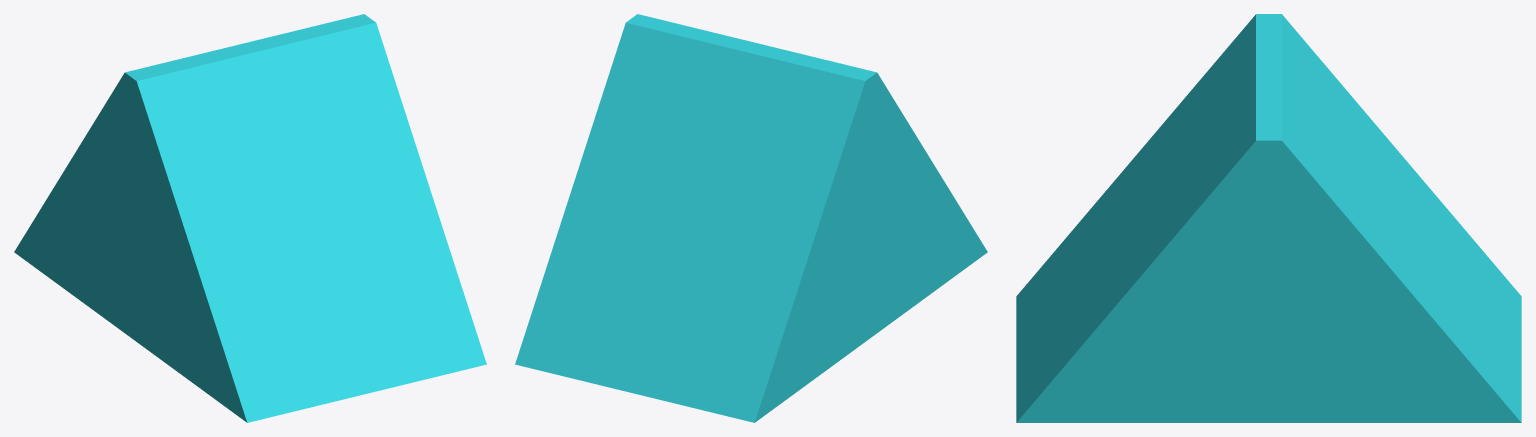
The model's file is Bloque1.fbx.
3 renders of one model, left to right at view 1: azimuth 30°, elevation 25°; view 2: azimuth 150°, elevation 25°; view 3: azimuth 270°, elevation 25°, orthographic. The views are drawn at different scales.
Visible parts, largest first — view 1: Bloques.002; view 2: Bloques.002; view 3: Bloques.002.
Part boxes in pixels (left/top/right/bottom): Bloques.002: left=14, top=14, right=486, bottom=422; Bloques.002: left=515, top=14, right=987, bottom=422; Bloques.002: left=1016, top=14, right=1521, bottom=422.
Bounding box in the file's own units: 0.1268 × 0.1319 × 0.2139.
